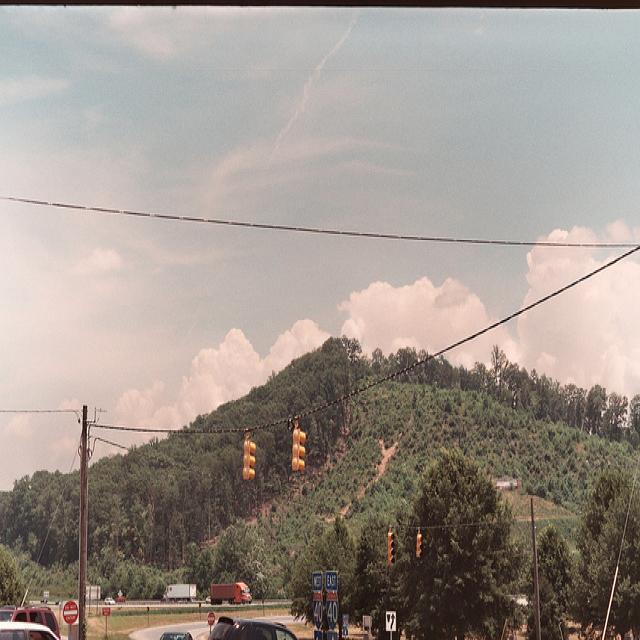Vehicle: (211, 614, 297, 633), (10, 605, 60, 633), (1, 620, 65, 640), (210, 582, 252, 606), (162, 584, 196, 603), (159, 631, 196, 640), (104, 598, 115, 605), (116, 596, 126, 602)
